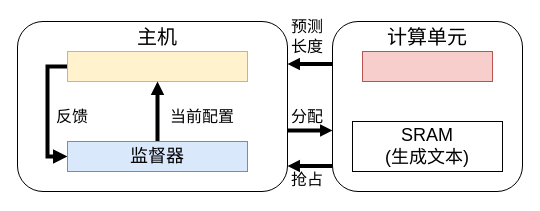
Some shapes in this 540 by 211 pixel diagram are drawn without their labels. The shapes that lost their labels are listed below. From the top down, each one's centre as x and y in pixels, then its label:
point 157,66: 调度器
point 427,66: 预测器
